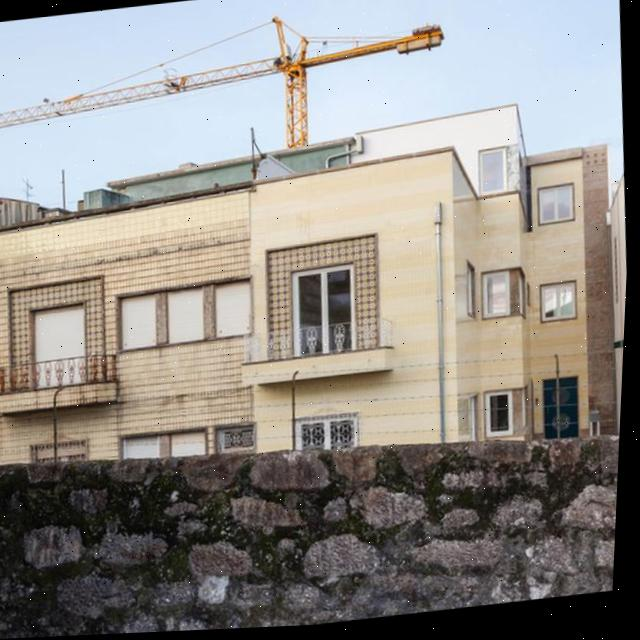building: (0, 88, 635, 506)
